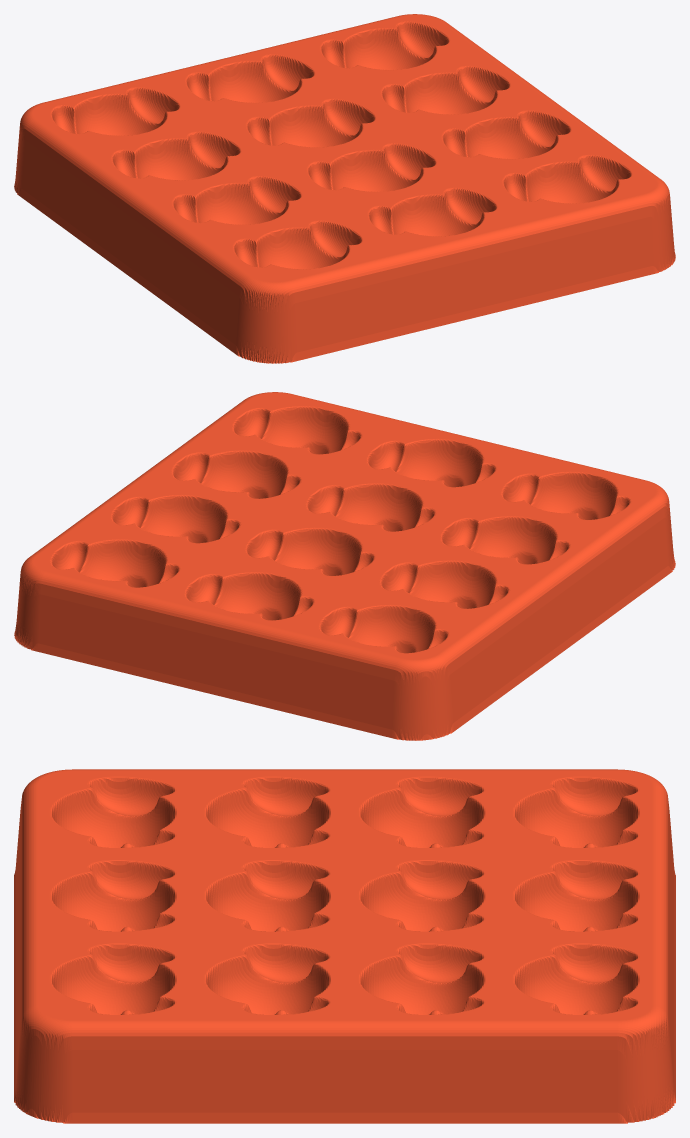
The model's file is mold.glb.
3 renders of one model, top to bottom at view 1: azimuth 30°, elevation 25°; view 2: azimuth 150°, elevation 25°; view 3: azimuth 270°, elevation 25°, orthographic. The views are drawn at different scales.
Parts seen in each view (by area): view 1: geometry_0; view 2: geometry_0; view 3: geometry_0.
Part boxes in pixels (x1,y1,x2,y2): geometry_0: [14, 14, 675, 363]; geometry_0: [14, 392, 675, 740]; geometry_0: [14, 769, 675, 1123].
Size of the model in its own units: 0.0987 by 0.0159 by 0.1025.
